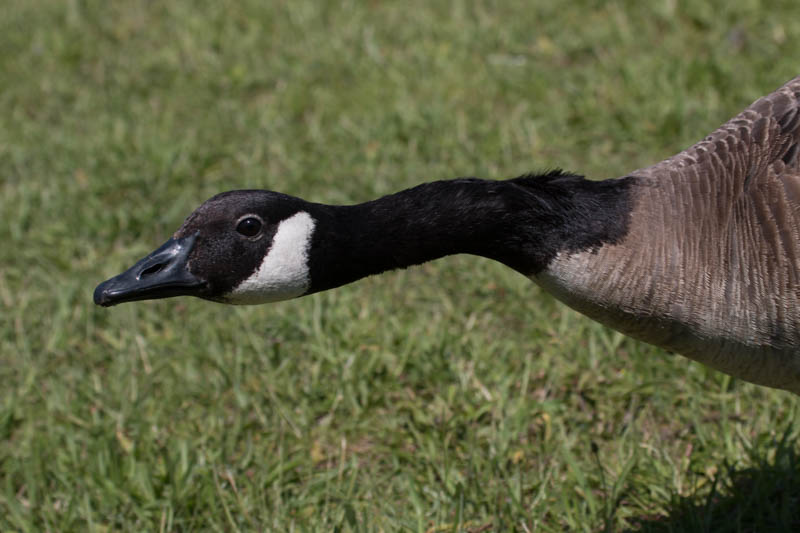goose-head: (92, 188, 356, 308)
